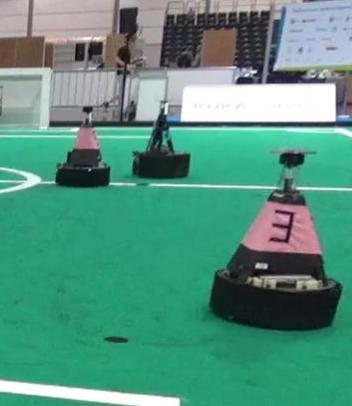robot: (210, 135, 344, 333), (131, 89, 192, 182), (51, 99, 113, 187)
